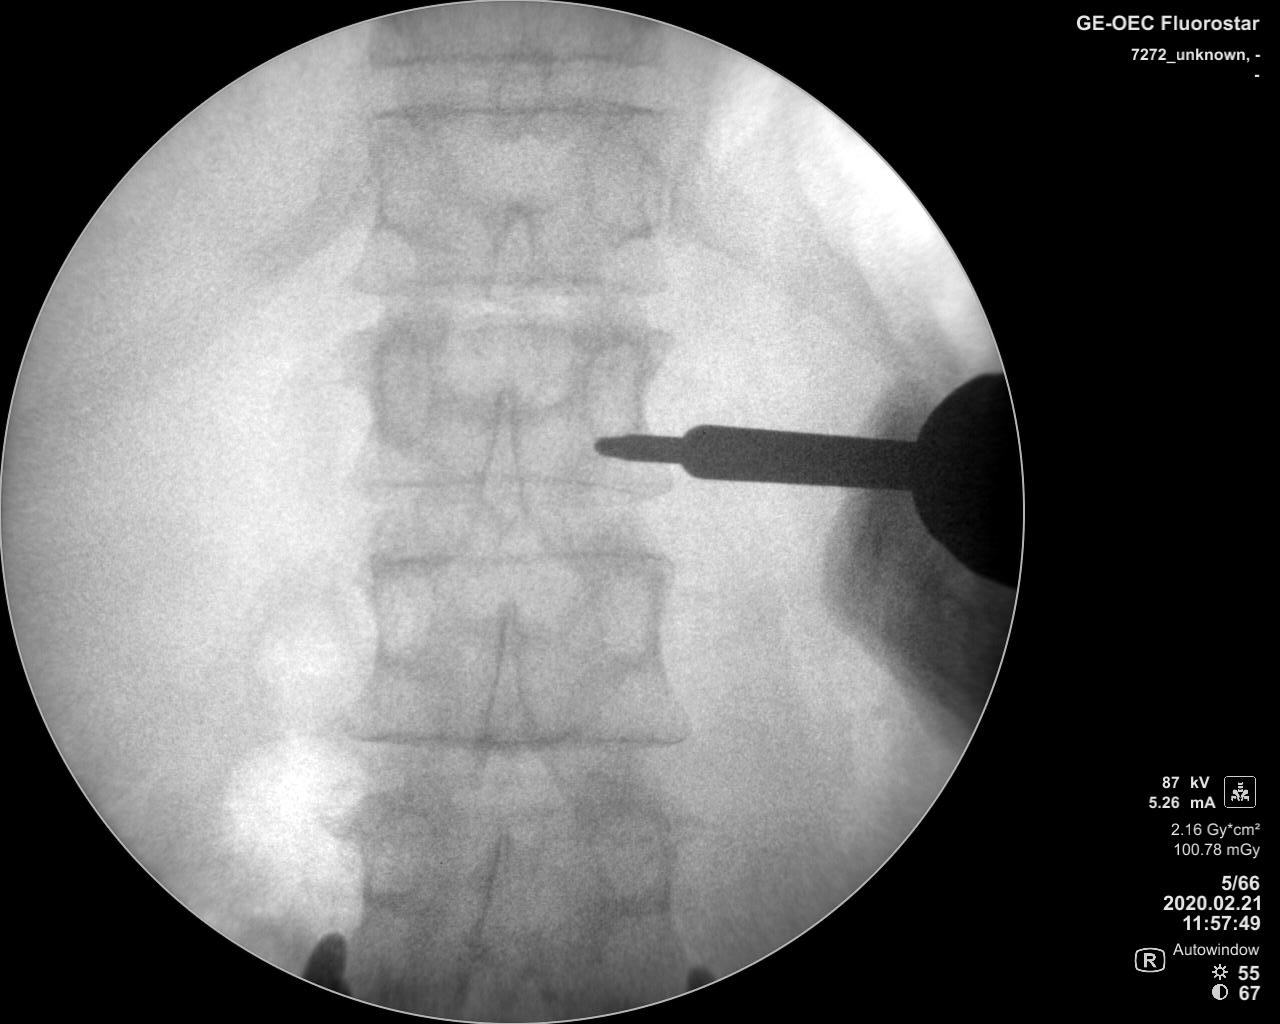eyes: (585, 119, 666, 245), (372, 119, 451, 236), (352, 800, 435, 907), (587, 796, 669, 904), (367, 556, 435, 674), (594, 552, 665, 660), (370, 328, 435, 447), (580, 345, 646, 436)
line: (341, 465, 673, 507), (347, 263, 667, 302), (325, 726, 700, 758), (365, 41, 674, 78), (346, 540, 683, 573), (359, 93, 673, 125)
nose: (480, 597, 539, 771), (473, 382, 532, 533), (470, 818, 526, 960), (489, 24, 551, 143), (478, 196, 540, 307)
